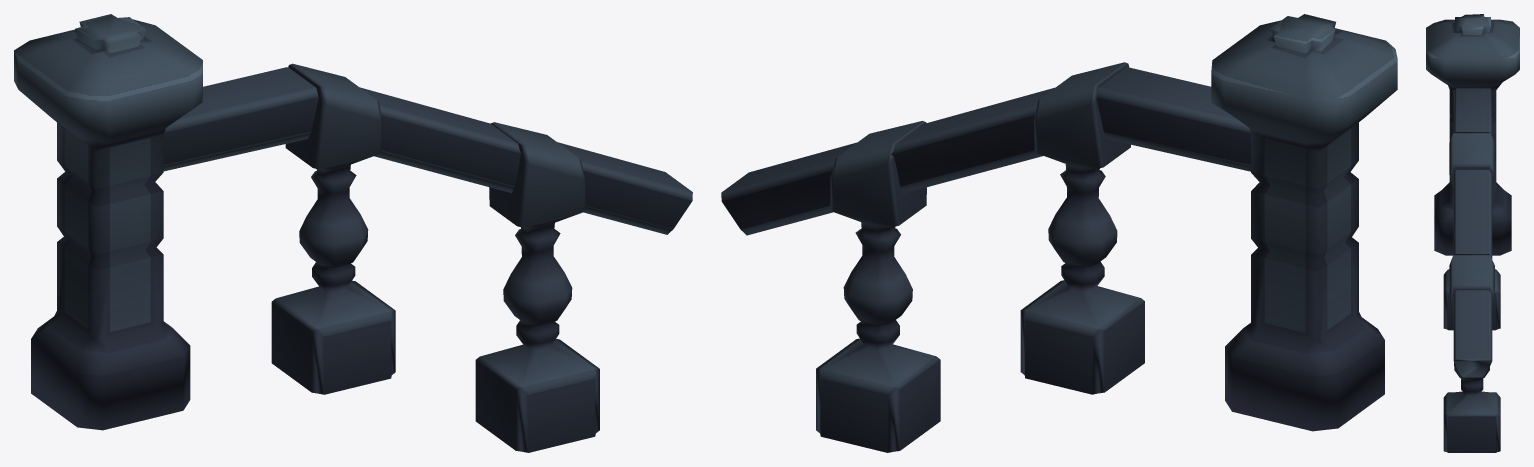
The model's file is Modular_Dungeon_Railing_Diag_Start.fbx.
3 views of the same model, side by side, from view 1: azimuth 30°, elevation 25°; view 2: azimuth 150°, elevation 25°; view 3: azimuth 270°, elevation 25° (orthographic). The views are drawn at different scales.
Visible parts, largest first — view 1: Railing_Diag_Start; view 2: Railing_Diag_Start; view 3: Railing_Diag_Start.
Part boxes in pixels (left/top/right/bottom): Railing_Diag_Start: left=14, top=14, right=692, bottom=452; Railing_Diag_Start: left=721, top=14, right=1397, bottom=452; Railing_Diag_Start: left=1426, top=14, right=1519, bottom=452.
Size of the model in its own units: 4.51 by 3.4 by 0.9727.
Materials: 1 (1 with a texture image).
